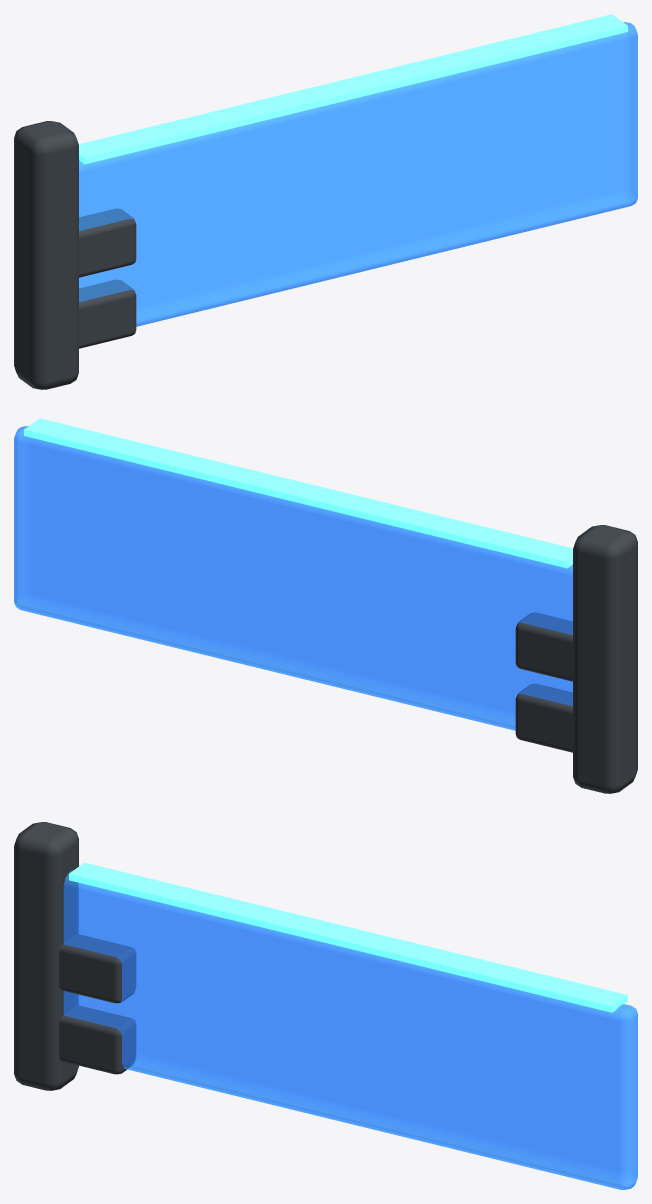
Rendered from gate_flap.glb.
3 renders of one model, top to bottom at view 1: azimuth 30°, elevation 25°; view 2: azimuth 150°, elevation 25°; view 3: azimuth 330°, elevation 25°, orthographic.
Parts seen in each view (by area): view 1: FlapPlate, FlapHinge, FlapEdgeLed, FlapBracketB, FlapBracketA; view 2: FlapPlate, FlapHinge, FlapEdgeLed, FlapBracketB, FlapBracketA; view 3: FlapPlate, FlapHinge, FlapEdgeLed, FlapBracketA, FlapBracketB.
Part boxes in pixels (box(x1,y1,x2,y2)): FlapPlate: box(79, 22, 637, 326); FlapHinge: box(14, 121, 78, 389); FlapEdgeLed: box(79, 14, 627, 164); FlapBracketB: box(79, 280, 136, 348); FlapBracketA: box(79, 208, 136, 277); FlapPlate: box(14, 426, 572, 730); FlapHinge: box(573, 525, 637, 793); FlapEdgeLed: box(24, 418, 572, 568); FlapBracketB: box(515, 684, 572, 752); FlapBracketA: box(515, 612, 572, 681); FlapPlate: box(63, 870, 637, 1189); FlapHinge: box(14, 822, 78, 1090); FlapEdgeLed: box(69, 862, 627, 1012); FlapBracketA: box(59, 934, 135, 1003); FlapBracketB: box(59, 1005, 135, 1074).
Bounding box in the file's own units: 0.406 × 0.16 × 0.032.
